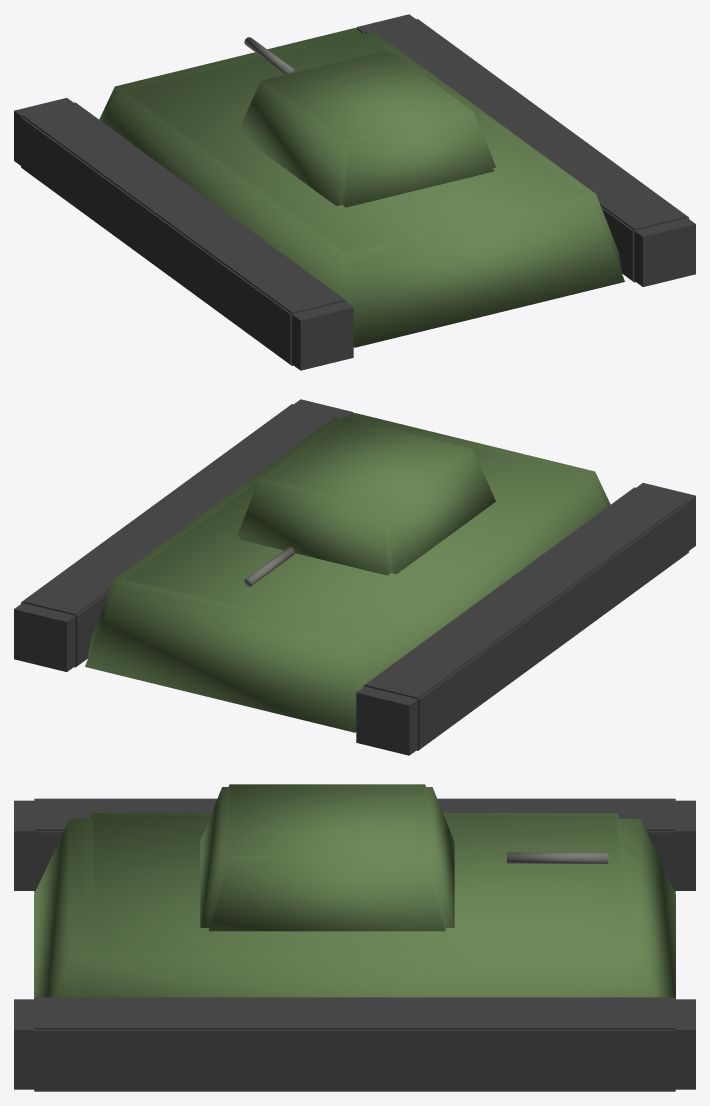
Rendered from tank-claudesonnet46.glb.
3 views of the same model, one above another, from view 1: azimuth 30°, elevation 25°; view 2: azimuth 150°, elevation 25°; view 3: azimuth 270°, elevation 25° (orthographic). The views are drawn at different scales.
Visible parts, largest first — view 1: Tank_Hull, Tank_Track_R, Tank_Turret, Tank_Track_L, Tank_Barrel; view 2: Tank_Hull, Tank_Track_R, Tank_Turret, Tank_Track_L, Tank_Barrel; view 3: Tank_Hull, Tank_Track_L, Tank_Turret, Tank_Track_R, Tank_Barrel.
Part boxes in pixels (left/top/right/bottom): Tank_Hull: left=99, top=28, right=624, bottom=347; Tank_Track_R: left=14, top=98, right=353, bottom=370; Tank_Turret: left=237, top=50, right=495, bottom=207; Tank_Track_L: left=356, top=14, right=695, bottom=286; Tank_Barrel: left=244, top=37, right=294, bottom=74; Tank_Hull: left=85, top=413, right=610, bottom=732; Tank_Track_R: left=356, top=483, right=695, bottom=755; Tank_Turret: left=237, top=418, right=495, bottom=575; Tank_Track_L: left=14, top=399, right=353, bottom=671; Tank_Barrel: left=244, top=547, right=294, bottom=586; Tank_Hull: left=34, top=813, right=675, bottom=998; Tank_Track_L: left=14, top=997, right=695, bottom=1091; Tank_Turret: left=200, top=784, right=454, bottom=931; Tank_Track_R: left=14, top=798, right=695, bottom=892; Tank_Barrel: left=507, top=852, right=608, bottom=863.
Bounding box in the file's own units: 5.94 × 1.88 × 7.4.
